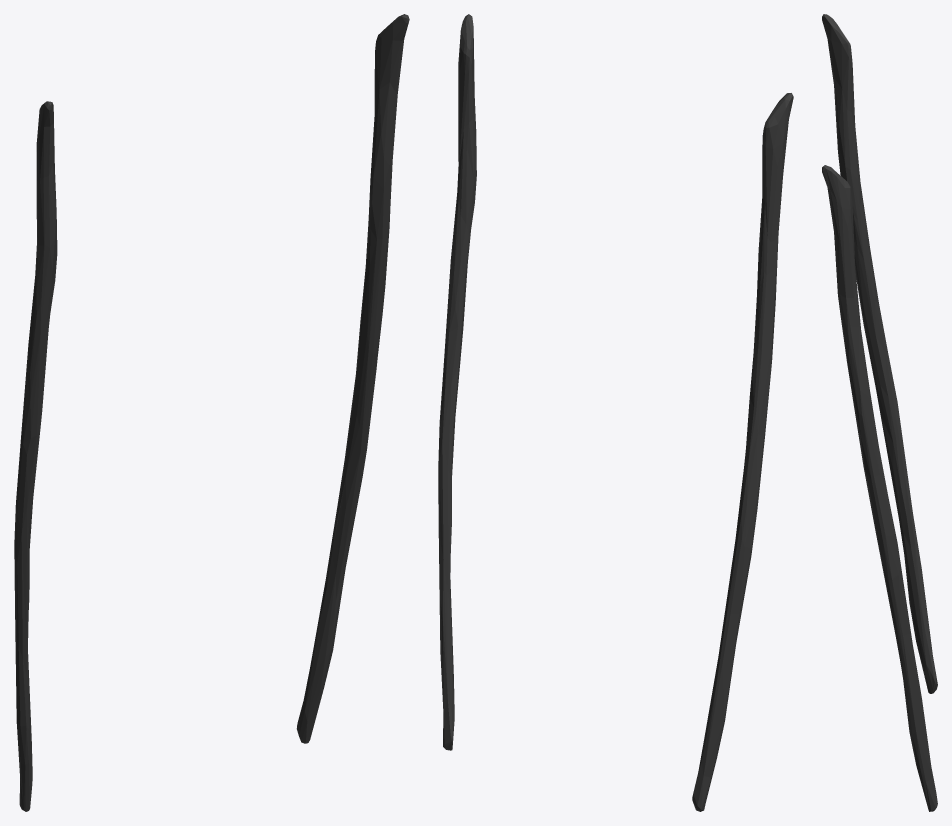
File: m_lacertus_fibrosus.glb
The picture shows the model from 3 angles, left to right: view 1: azimuth 30°, elevation 25°; view 2: azimuth 150°, elevation 25°; view 3: azimuth 270°, elevation 25°; orthographic projection. The views are drawn at different scales.
Visible parts, largest first — view 1: m_lacertus_fibrosus; view 2: m_lacertus_fibrosus; view 3: m_lacertus_fibrosus.
Boxes of the visible parts, x1,y1,x2,y2 form: m_lacertus_fibrosus: [14, 14, 409, 811]; m_lacertus_fibrosus: [438, 14, 793, 811]; m_lacertus_fibrosus: [822, 14, 937, 811].
Bounding box in the file's own units: 0.00378 × 0.00758 × 0.0012.
1 material, 1 textured.
